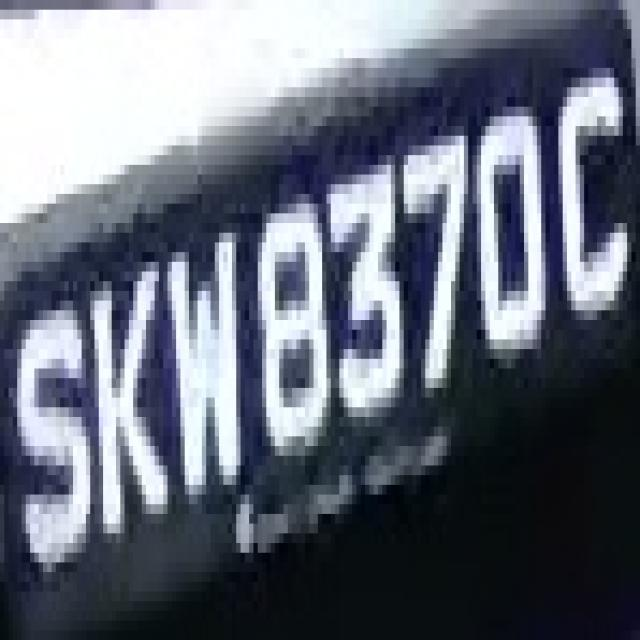0: (472, 87, 550, 388)
3: (326, 126, 408, 456)
7: (391, 116, 481, 456)
8: (253, 136, 335, 504)
C: (541, 68, 636, 359)
K: (73, 213, 168, 553)
S: (4, 262, 90, 601)
W: (168, 184, 258, 524)
